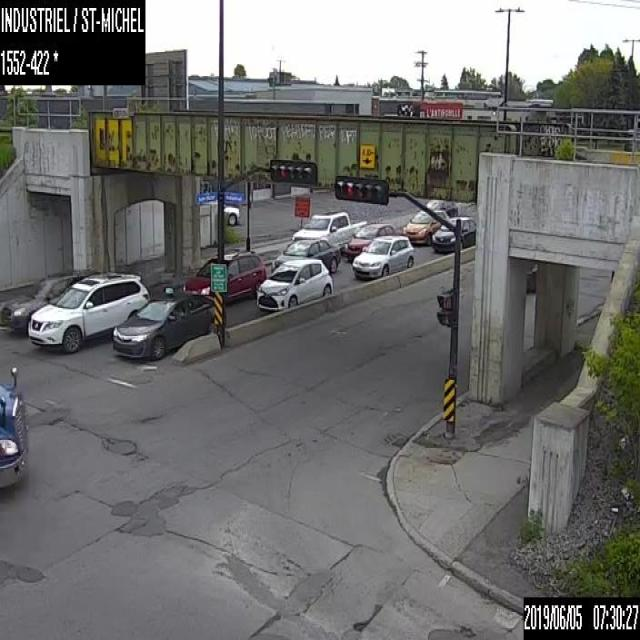construction: (293, 193, 309, 228)
vehicle: (28, 272, 150, 352), (110, 286, 216, 360), (0, 270, 103, 334), (182, 247, 264, 304), (254, 257, 332, 314), (0, 365, 27, 486), (291, 212, 366, 248), (352, 233, 412, 278), (270, 238, 340, 274), (344, 221, 396, 262), (402, 208, 449, 245), (432, 216, 474, 253), (209, 199, 239, 226), (425, 197, 457, 217)
